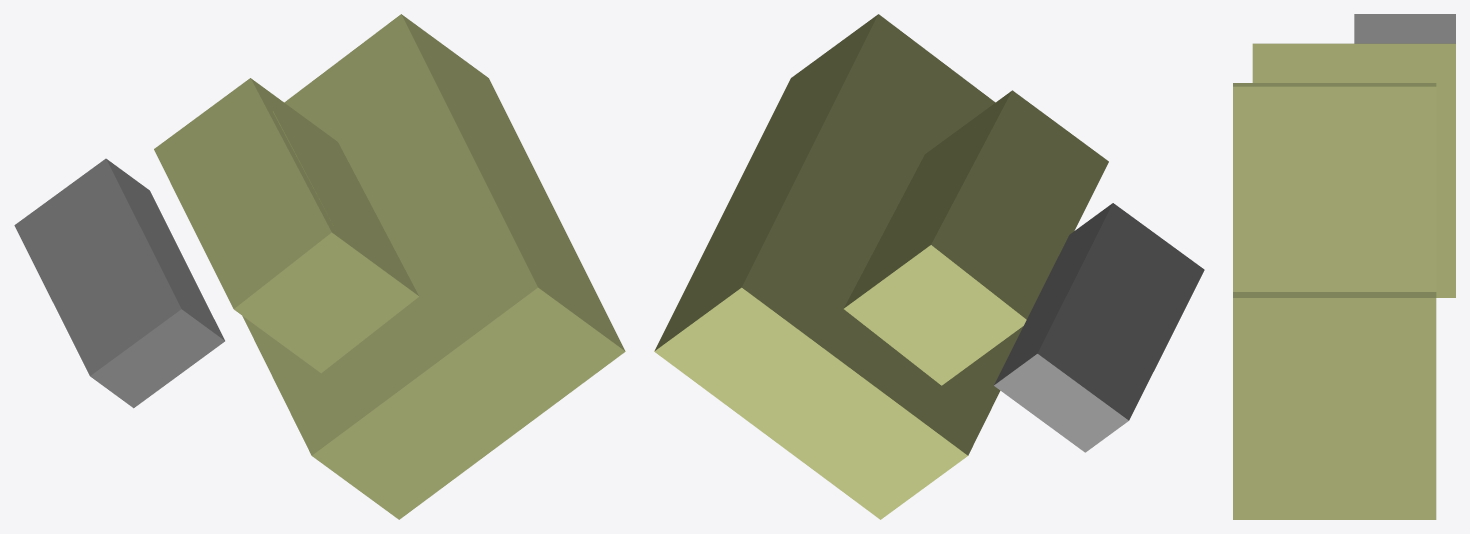
3 views of the same model, side by side, from view 1: azimuth 30°, elevation 25°; view 2: azimuth 150°, elevation 25°; view 3: azimuth 270°, elevation 25° (orthographic). The views are drawn at different scales.
Parts seen in each view (by area): view 1: 0_1_1_3_2_0_2_2_1; view 2: 0_1_1_3_2_0_2_2_1; view 3: 0_1_1_3_2_0_2_2_1.
Part boxes in pixels (x1,y1,x2,y2): 0_1_1_3_2_0_2_2_1: (14, 14, 625, 519); 0_1_1_3_2_0_2_2_1: (654, 14, 1204, 519); 0_1_1_3_2_0_2_2_1: (1233, 14, 1455, 519).
Bounding box in the file's own units: 20.39 × 15.88 × 6.58.
